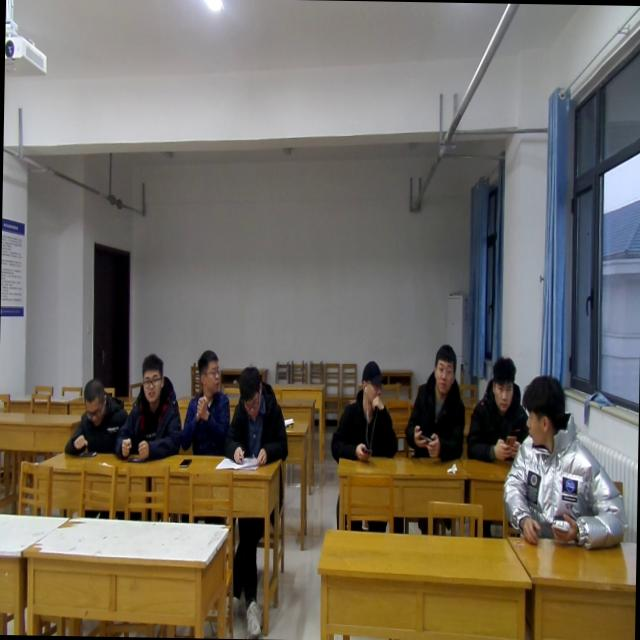bow: (64, 376, 130, 458)
down: (233, 364, 267, 422), (486, 353, 518, 413), (78, 373, 109, 426)
lookup: (428, 336, 459, 396), (138, 348, 166, 402)
sit: (498, 377, 630, 552), (328, 358, 402, 462), (114, 354, 182, 464), (402, 342, 466, 458), (224, 364, 291, 468), (464, 355, 530, 460), (180, 348, 232, 457)
